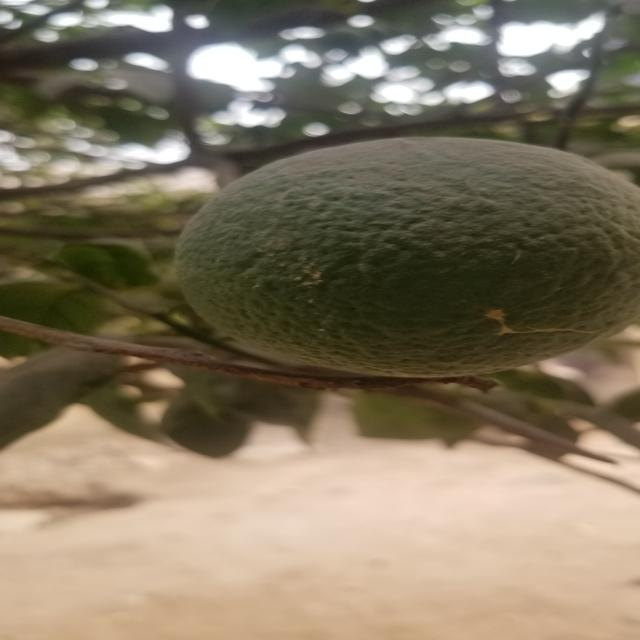agrume: (170, 136, 630, 380)
